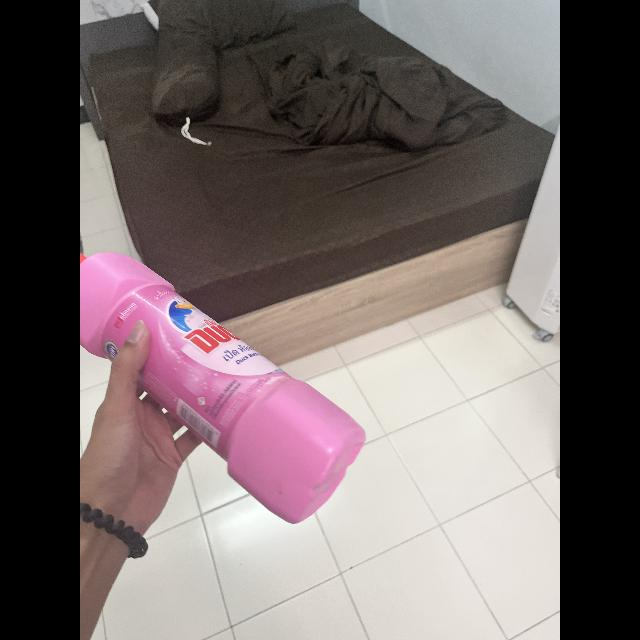chemical_plastic_bottle: (80, 251, 374, 524)
